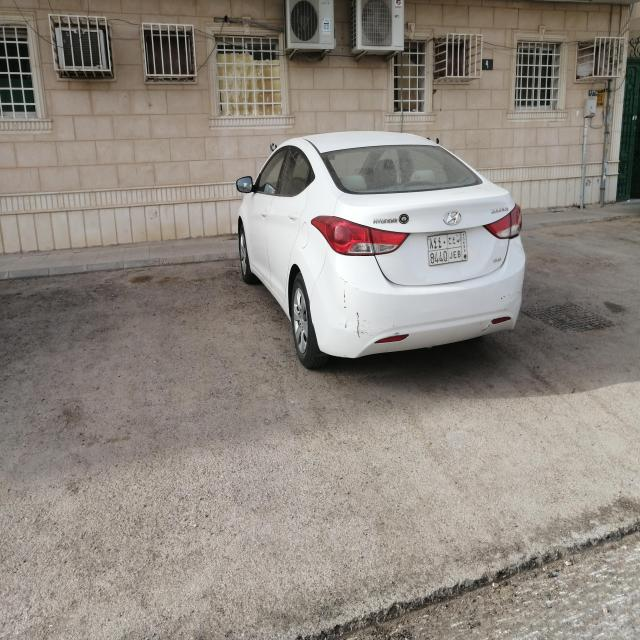license_plate: (426, 233, 470, 266)
